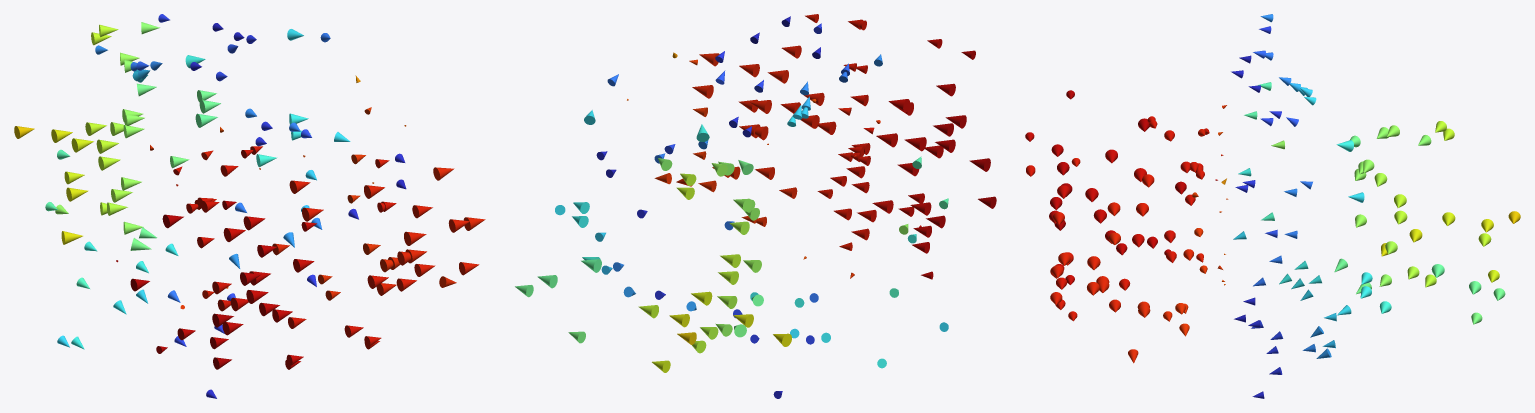
File: LineasCorrienteH2-O2_mh2-5.58_V-0.9.glb
The picture shows the model from 3 angles, left to right: view 1: azimuth 30°, elevation 25°; view 2: azimuth 150°, elevation 25°; view 3: azimuth 270°, elevation 25°; orthographic projection. The views are drawn at different scales.
Size of the model in its own units: 0.000922 by 0.000965 by 0.00123.
Materials: 2 (2 with a texture image).
